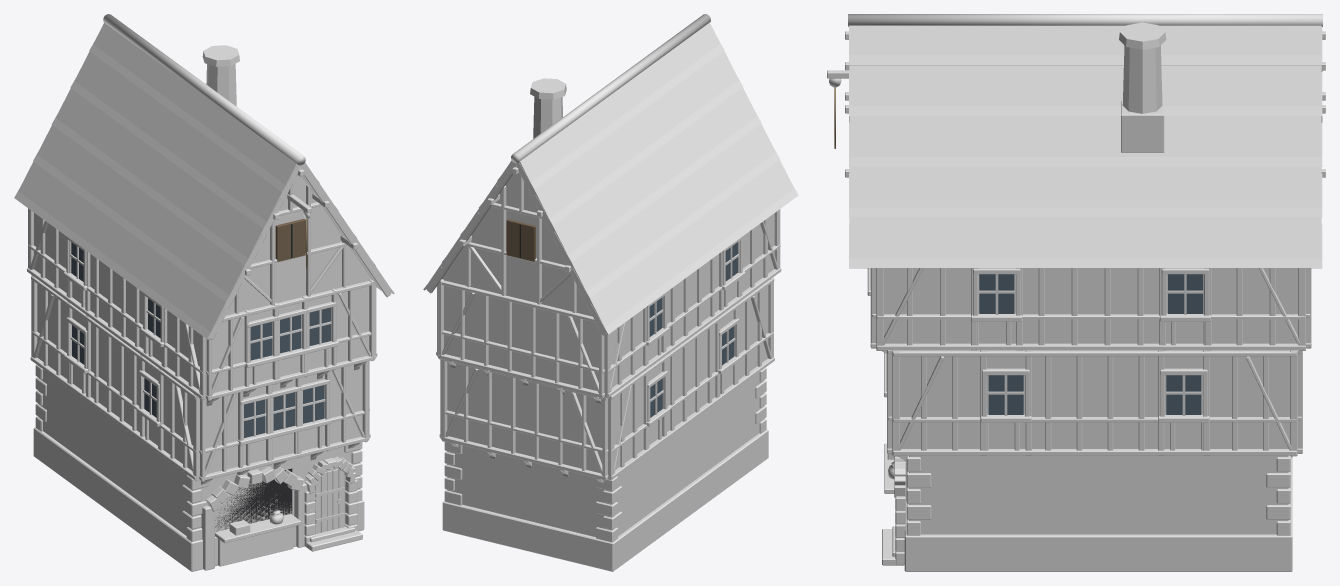
Rendered from ville_05_pignon_brique_flandre.fbx.
The picture shows the model from 3 angles, left to right: view 1: azimuth 30°, elevation 25°; view 2: azimuth 150°, elevation 25°; view 3: azimuth 270°, elevation 25°; orthographic projection. The views are drawn at different scales.
Parts seen in each view (by area): view 1: ville_05_pignon_brique_flandre_LOD0; view 2: ville_05_pignon_brique_flandre_LOD0; view 3: ville_05_pignon_brique_flandre_LOD0.
Boxes of the visible parts, <box> form: ville_05_pignon_brique_flandre_LOD0: <box>14,14,394,571</box>; ville_05_pignon_brique_flandre_LOD0: <box>423,14,798,571</box>; ville_05_pignon_brique_flandre_LOD0: <box>827,14,1325,571</box>.
Size of what is drawn, in the model's own units: 5.61 by 11.92 by 10.52.
